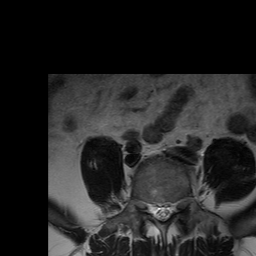CCS_normal: (159, 191, 166, 227)
LFS_normal: (174, 190, 182, 219)
LLS_normal: (166, 193, 174, 224)
RFS_normal: (143, 191, 151, 220)
RLS_normal: (151, 192, 159, 223)
